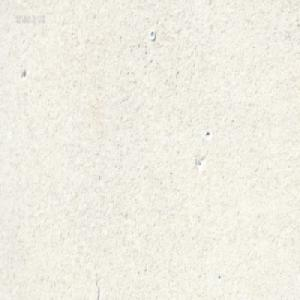Washer: (149, 30, 155, 41)
